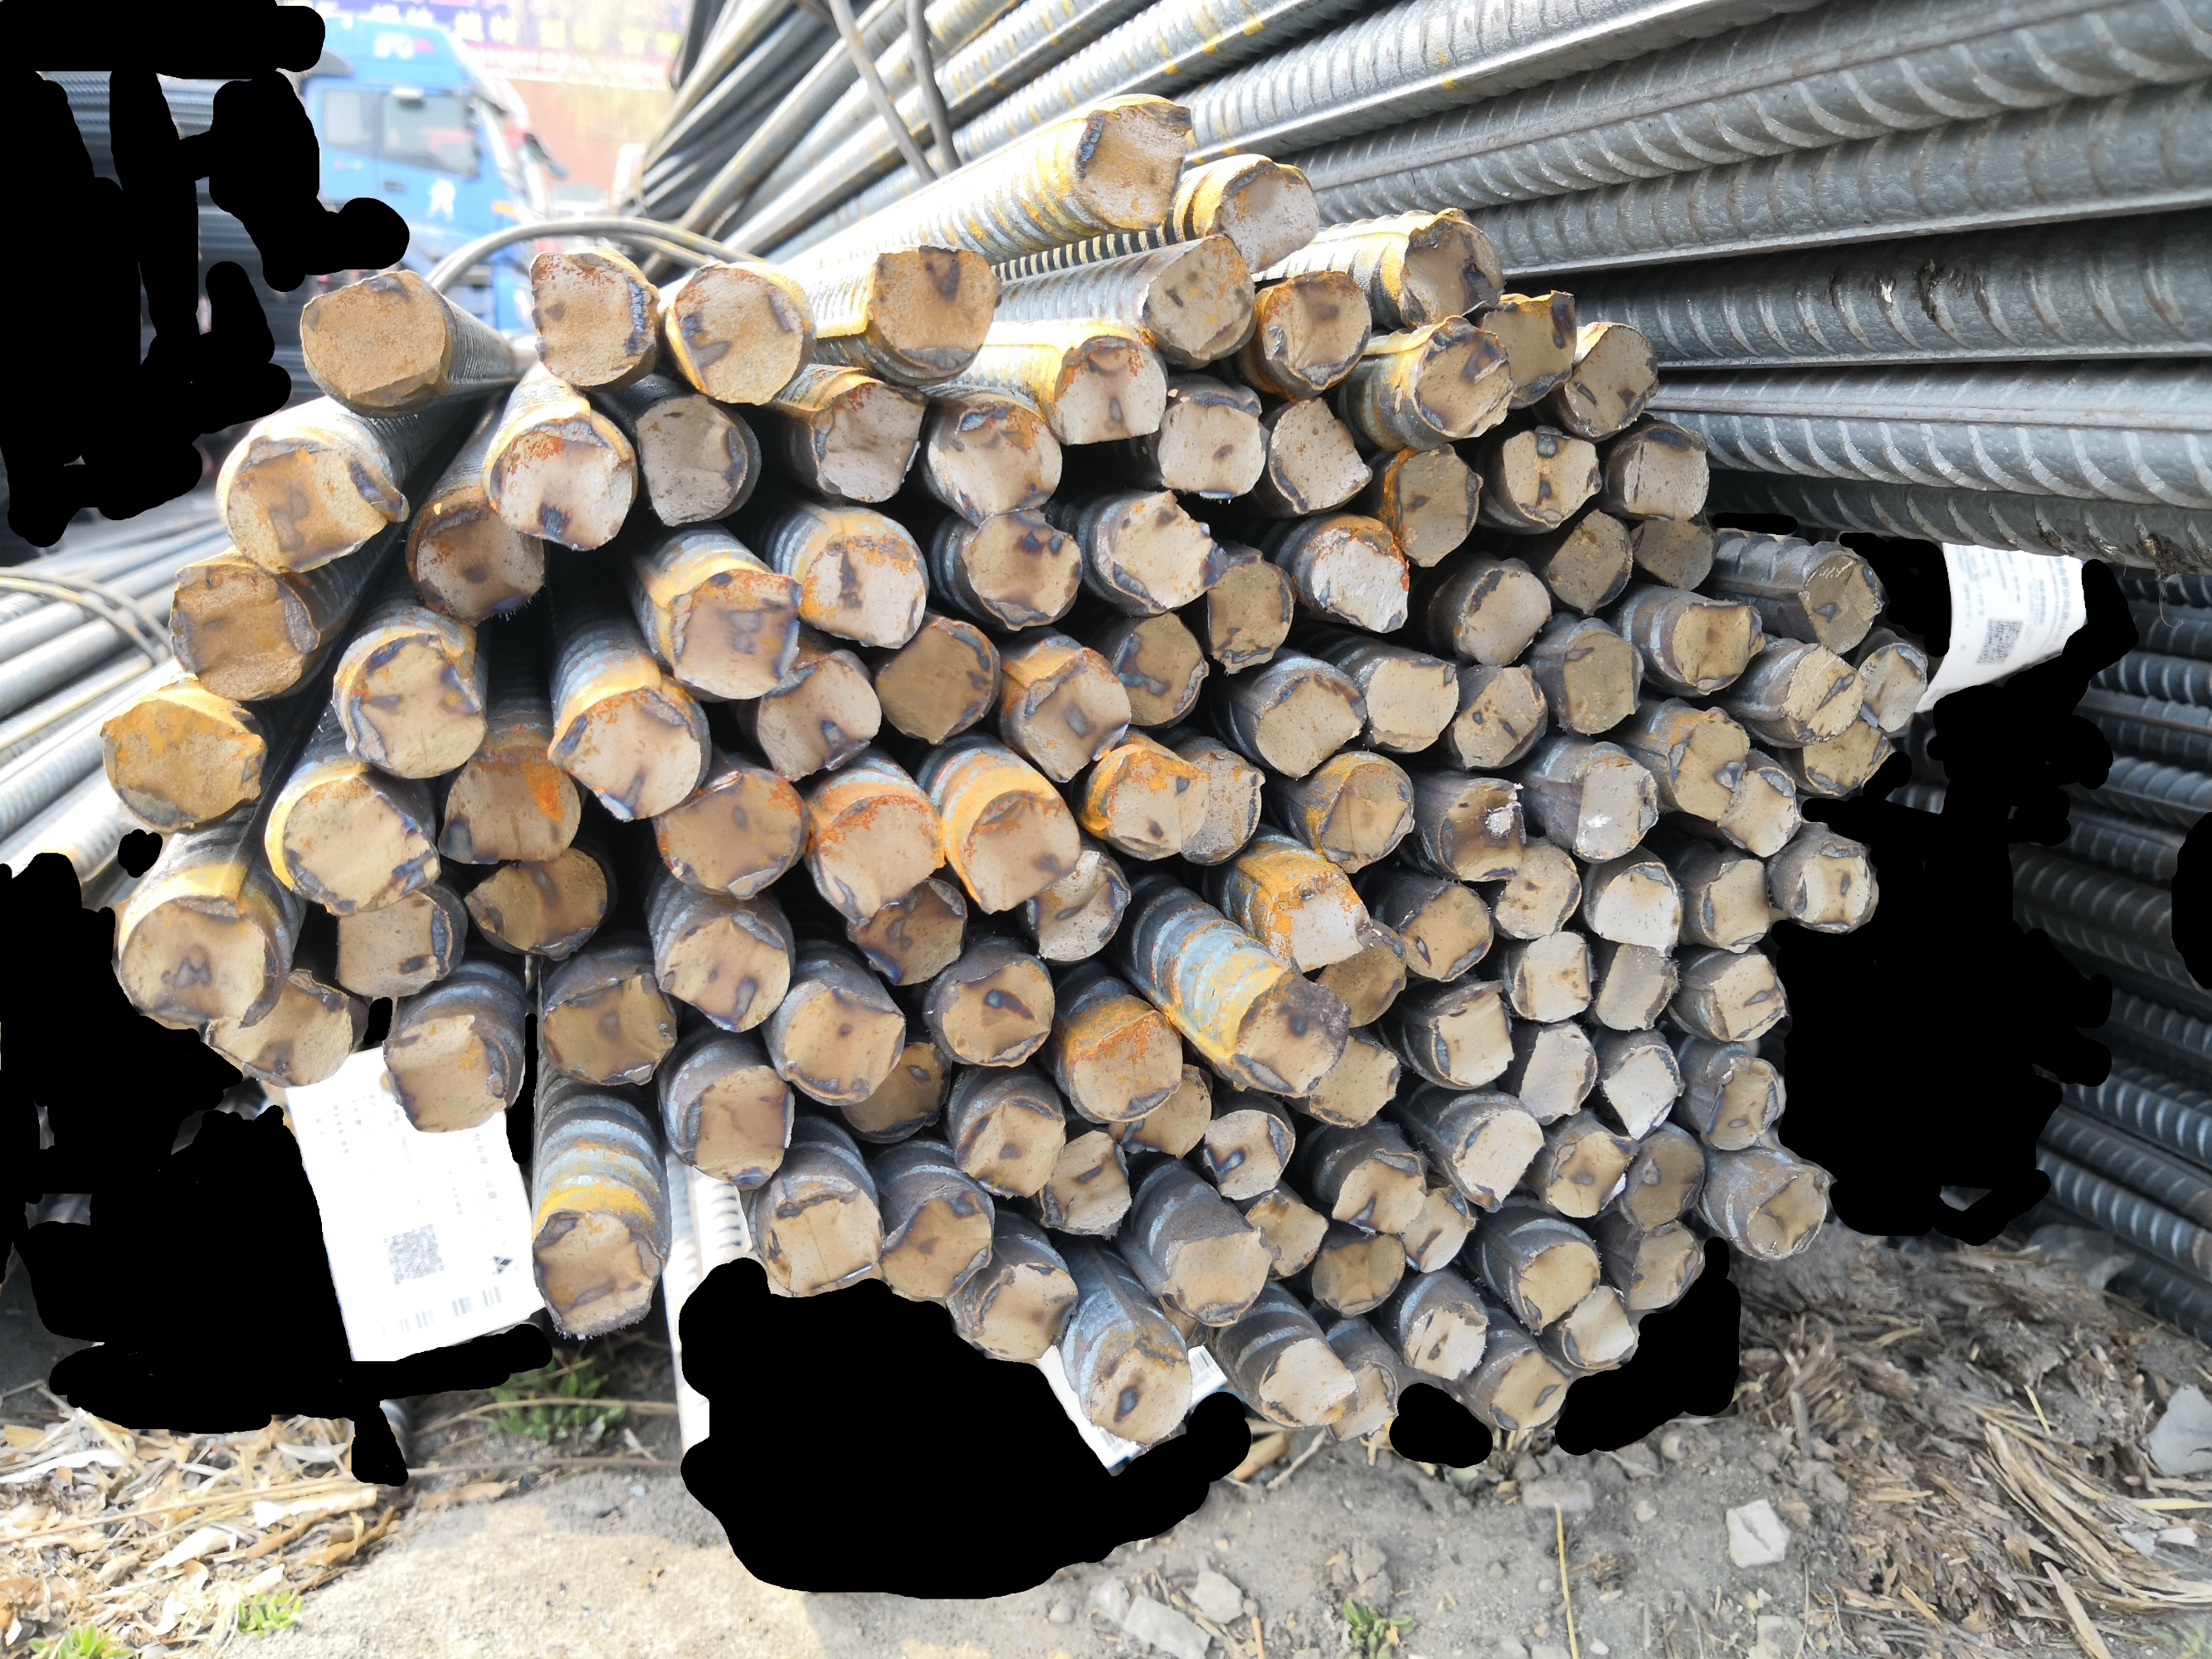rebar: (213, 427, 413, 582), (91, 687, 275, 835), (115, 880, 288, 1035), (268, 770, 446, 918), (162, 559, 333, 709), (535, 680, 708, 828), (333, 624, 490, 782), (291, 265, 453, 415), (479, 410, 641, 556), (666, 254, 811, 411), (652, 765, 809, 903), (427, 734, 586, 868), (664, 561, 811, 706), (404, 486, 553, 629), (861, 239, 1011, 378), (1225, 958, 1365, 1107), (811, 786, 952, 931), (1089, 481, 1238, 619), (526, 1201, 669, 1342), (199, 965, 357, 1091), (455, 843, 615, 967), (525, 246, 661, 390), (650, 903, 795, 1039), (748, 648, 885, 788), (866, 610, 1001, 751), (952, 784, 1089, 920), (535, 967, 685, 1091), (1011, 641, 1137, 788), (628, 389, 753, 533), (791, 523, 929, 653), (1070, 94, 1196, 237), (777, 976, 910, 1110), (804, 375, 938, 505), (380, 1009, 512, 1140), (955, 500, 1086, 633), (1135, 227, 1262, 362), (938, 394, 1067, 526), (1253, 263, 1377, 397), (1063, 1000, 1189, 1129), (676, 1058, 795, 1194), (757, 1175, 887, 1297), (1046, 326, 1173, 450), (838, 873, 971, 992), (927, 953, 1060, 1072), (1198, 153, 1325, 275), (1403, 308, 1520, 441), (873, 1185, 997, 1309), (1265, 864, 1394, 983), (328, 889, 462, 1000), (1393, 207, 1510, 333), (1300, 516, 1417, 640), (1264, 392, 1377, 519), (1248, 666, 1372, 781), (1154, 1222, 1283, 1331), (837, 1033, 955, 1152), (1098, 742, 1213, 864), (1102, 610, 1215, 734), (1475, 284, 1581, 415), (1382, 439, 1489, 570), (1027, 847, 1137, 972), (1079, 1333, 1198, 1448), (950, 1091, 1070, 1202), (1150, 394, 1271, 505), (1201, 544, 1297, 681), (966, 1255, 1081, 1368), (1313, 756, 1419, 878), (1100, 1054, 1218, 1162), (1445, 657, 1551, 777), (1307, 911, 1410, 1035), (1497, 422, 1611, 533), (1560, 319, 1663, 441), (1443, 1103, 1550, 1218), (1449, 563, 1557, 674), (1168, 751, 1267, 871), (1389, 878, 1499, 986), (1422, 978, 1520, 1096), (1041, 1126, 1135, 1248), (1248, 1331, 1361, 1432), (1665, 594, 1771, 701), (1321, 1140, 1435, 1239), (1433, 772, 1532, 885), (1539, 504, 1637, 619), (1659, 706, 1752, 826), (1567, 751, 1665, 864), (1360, 652, 1462, 758), (1555, 624, 1649, 739), (1614, 418, 1715, 525), (1792, 547, 1888, 659), (1511, 1016, 1605, 1127), (1595, 1035, 1689, 1147), (1304, 1033, 1407, 1134), (1306, 1227, 1412, 1324), (1508, 1234, 1605, 1340), (1614, 1129, 1712, 1236), (1198, 1101, 1299, 1202), (1691, 854, 1792, 955), (1543, 1126, 1645, 1223), (1590, 854, 1686, 958), (1738, 1166, 1835, 1267), (1776, 643, 1870, 748), (1788, 833, 1883, 936), (1700, 1053, 1792, 1157), (1616, 1218, 1708, 1319), (1591, 938, 1684, 1037), (1494, 840, 1584, 941), (1506, 925, 1595, 1028), (1797, 713, 1902, 798), (1713, 762, 1804, 859), (1700, 950, 1792, 1044), (1241, 1187, 1330, 1284), (1398, 1182, 1483, 1279), (1485, 1344, 1578, 1432), (1557, 1281, 1645, 1373), (1848, 636, 1931, 732), (1625, 512, 1720, 594), (1398, 1302, 1492, 1384), (1321, 1359, 1400, 1446), (1321, 1358, 1400, 1445), (1320, 1358, 1398, 1445), (1320, 1356, 1398, 1443), (1323, 1361, 1400, 1446)
